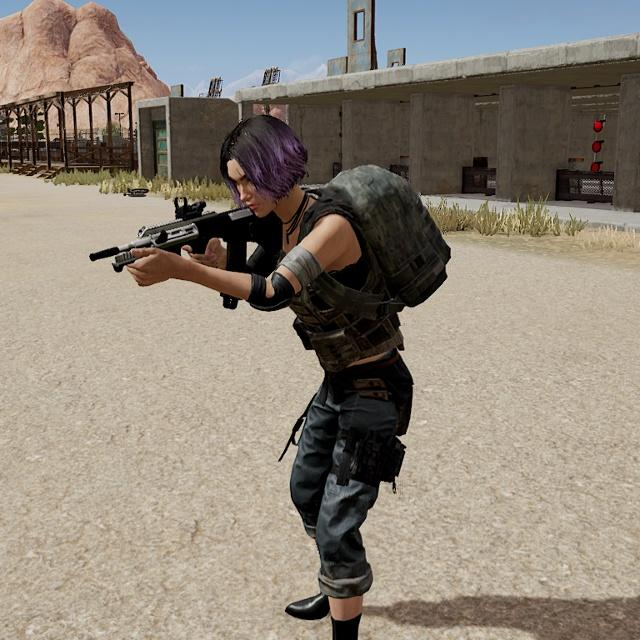head: (208, 113, 314, 224)
people: (195, 104, 416, 640)
